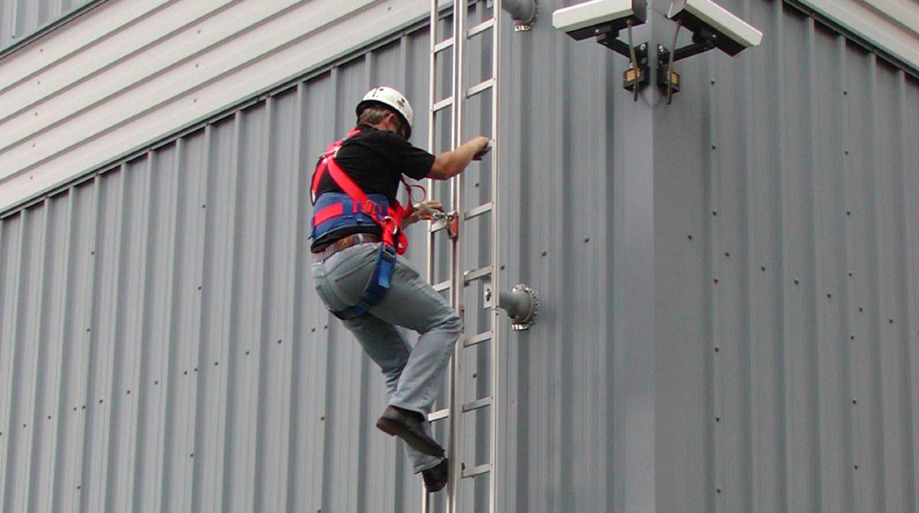epi: (304, 81, 480, 493)
